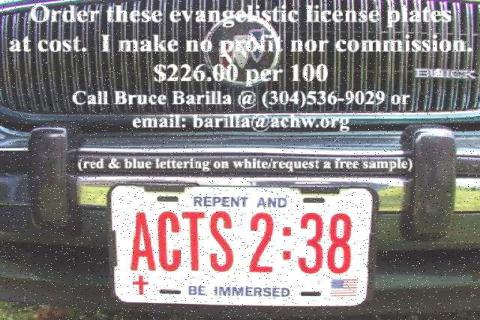LicensePlate: (109, 183, 372, 304)
